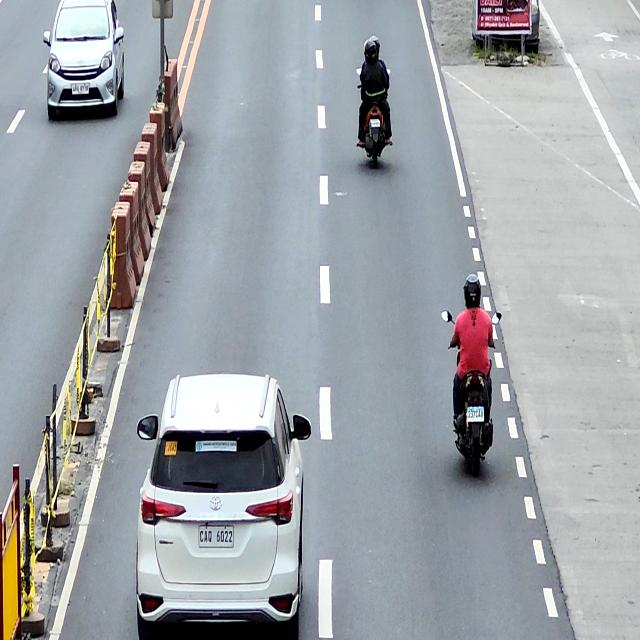Car: (136, 373, 312, 640), (43, 0, 126, 119)
License-Plate: (198, 526, 234, 547), (70, 83, 90, 95), (467, 407, 484, 421), (369, 119, 380, 128)
Motorcycle: (441, 309, 502, 480), (356, 63, 391, 171)
